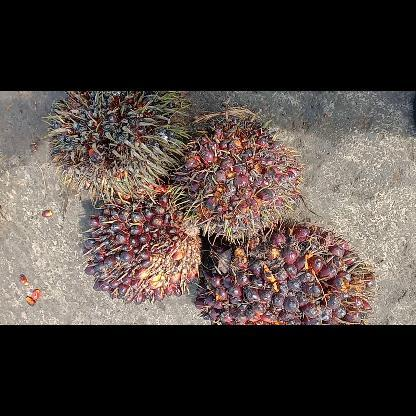Kurang masak: (176, 118, 298, 232), (82, 186, 198, 302)
TBS abnormal: (47, 91, 184, 190)
TBS masak: (197, 224, 375, 324)
